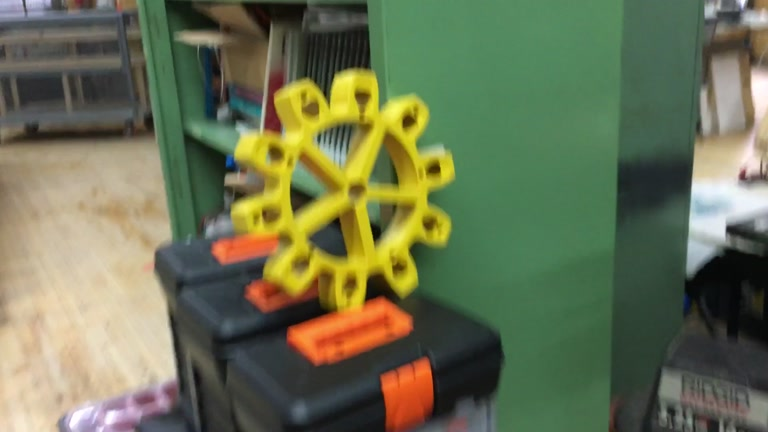gear: (229, 66, 456, 316)
